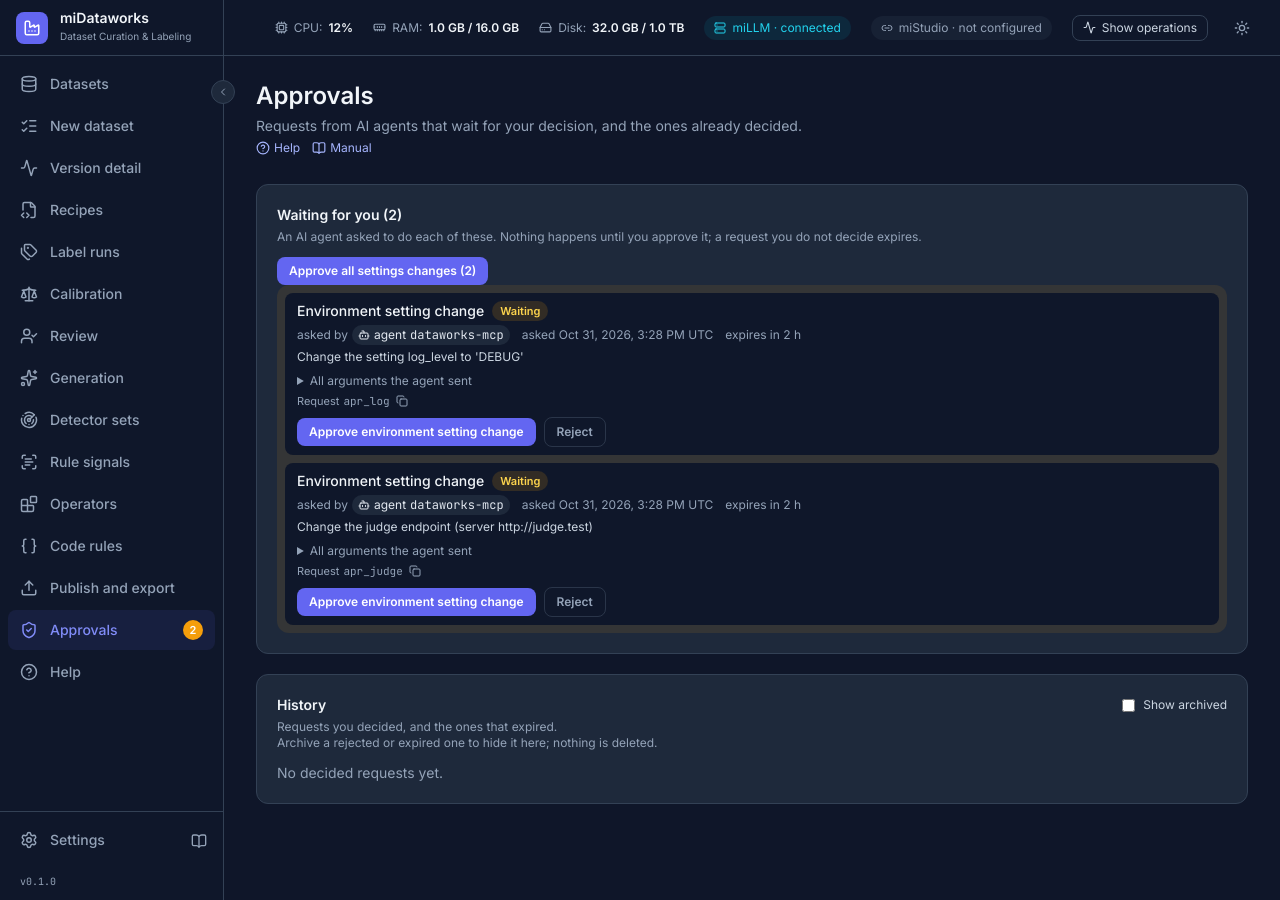
Test: the confirm › says what the server refused, and what did not run
Click the button with test id "approve-all-settings-button" at point(383, 271), box top-left (277, 257), bottom-right (488, 285)
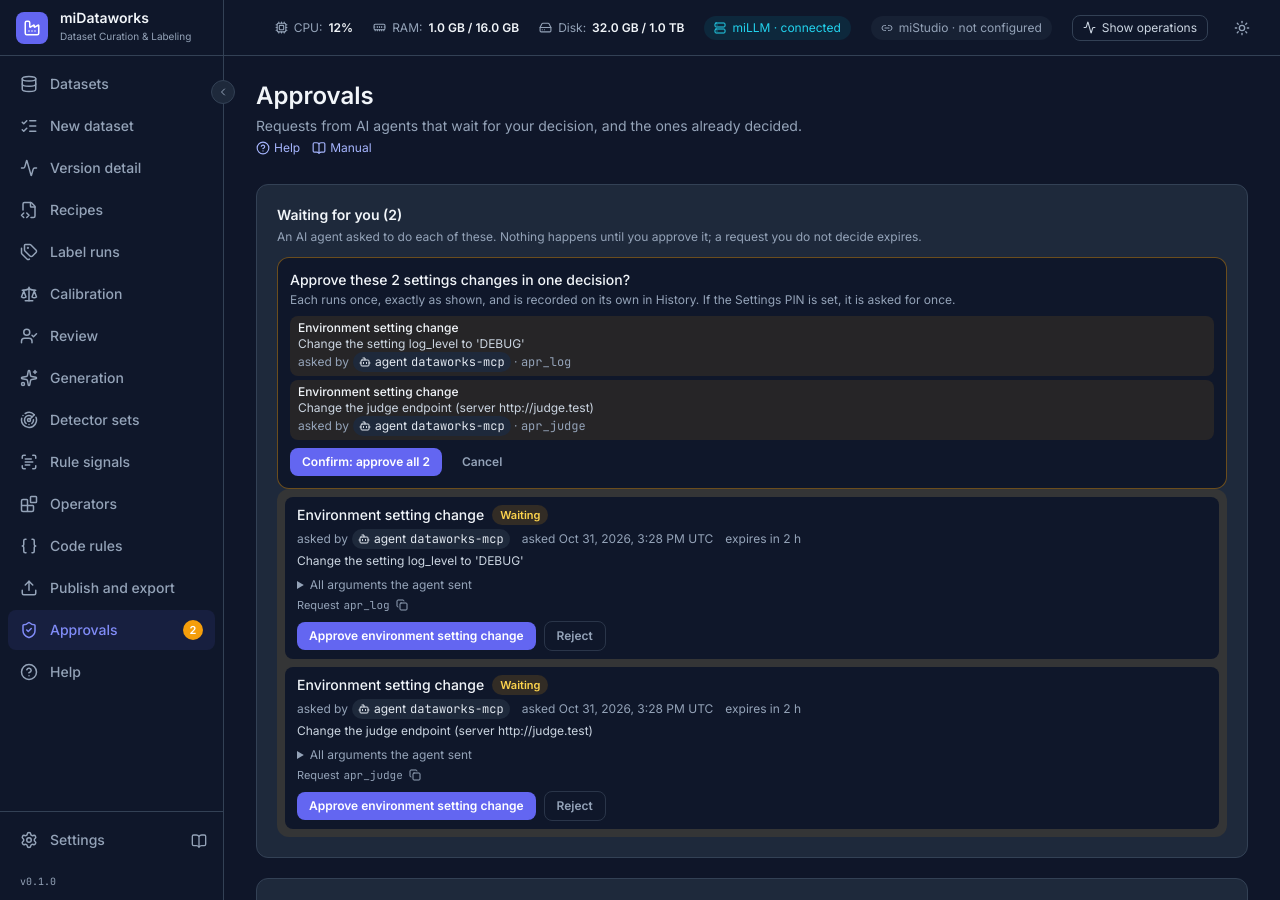
Click the button with test id "approve-all-settings-confirm-button" at point(366, 462), box top-left (290, 448), bottom-right (442, 476)
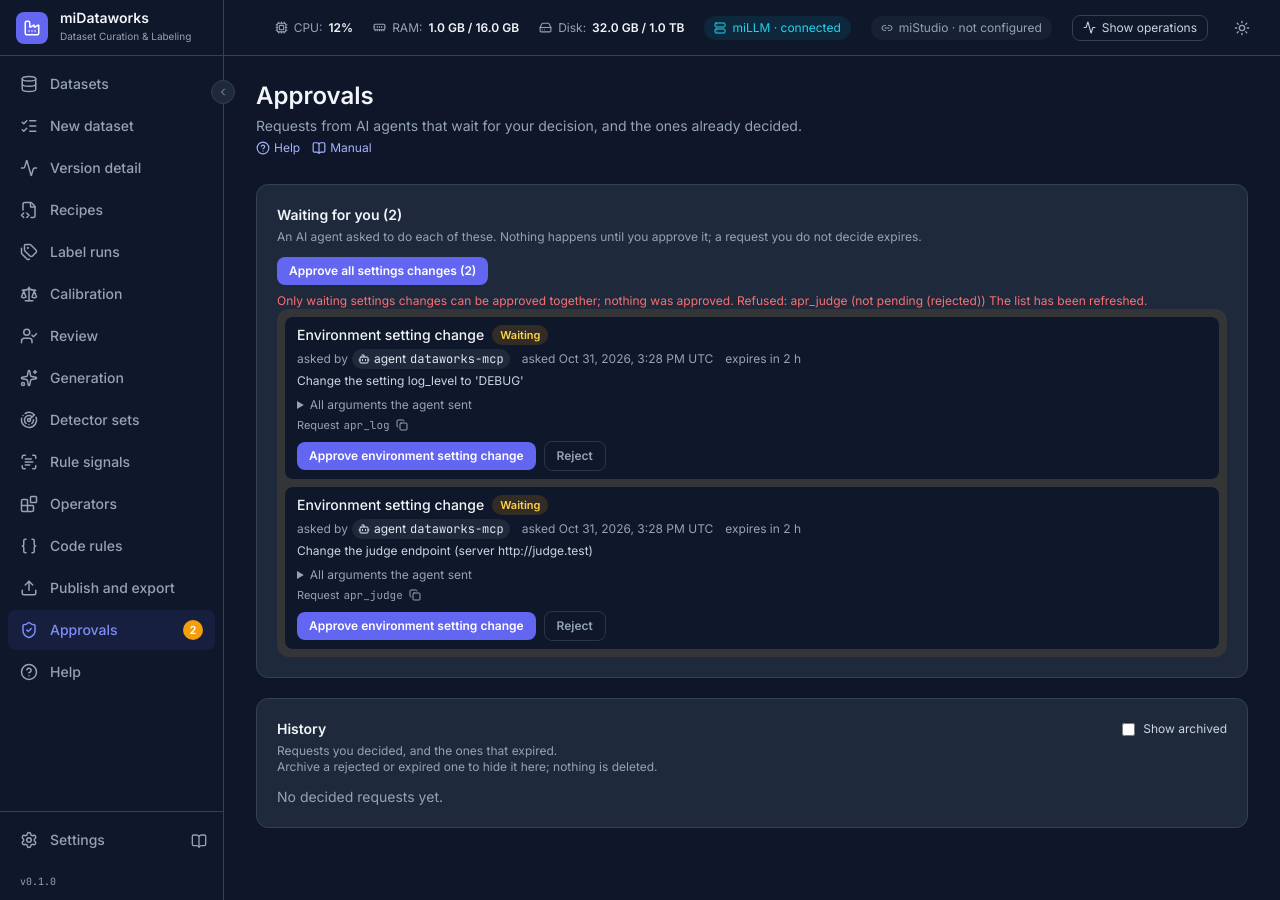
Now the message with test id "approve-all-settings-outcome" shows "nothing was approved. Refused: apr_judge", box top-left (277, 293), bottom-right (1147, 308)
